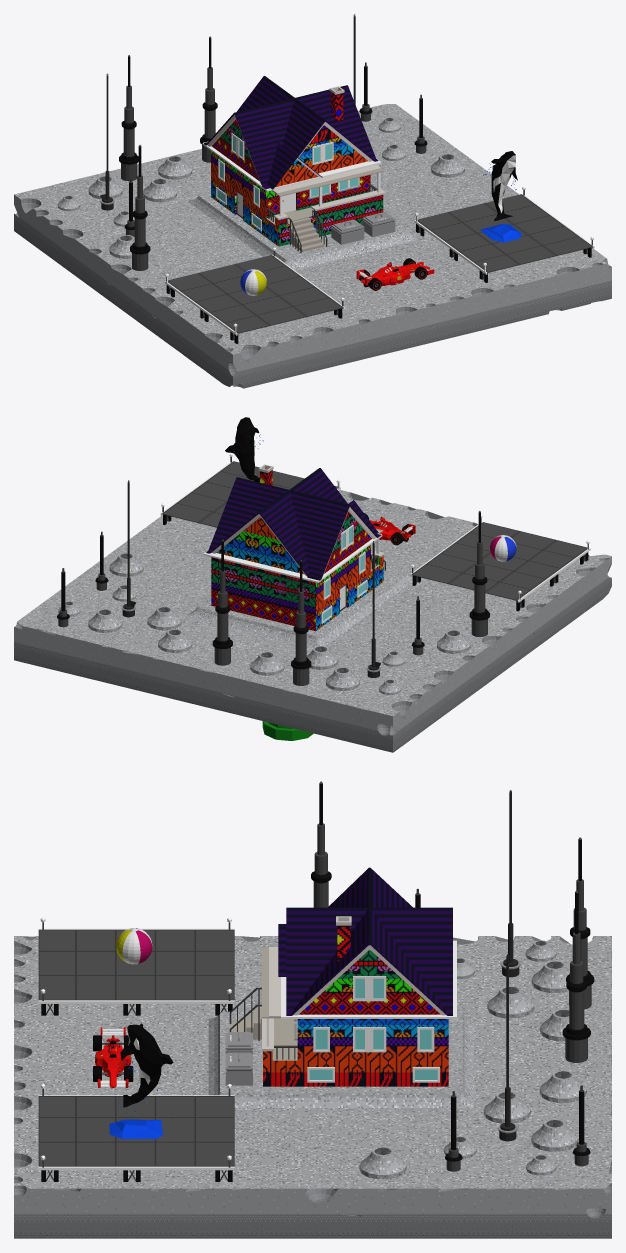
3 views of the same model, one above another, from view 1: azimuth 30°, elevation 25°; view 2: azimuth 150°, elevation 25°; view 3: azimuth 270°, elevation 25° (orthographic). The views are drawn at different scales.
Parts seen in each view (by area): view 1: Cube.027, Cube.966, Cube.025, Cube.026, Cube.028, ANIMAL_ORCA, Cylinder.021, VEHICLES_FORMULA_1, Cylinder.020, Cylinder.017, Cube.029, Cube.030 (+6 smaller); view 2: Cube.027, Cube.966, Cube.025, Cube.028, Cube.026, Cylinder.017, Cylinder.020, Cylinder.021, ANIMAL_ORCA, VEHICLES_FORMULA_1, Cylinder.030, Cylinder.027 (+10 smaller); view 3: Cube.027, Cube.966, Cube.025, Cube.026, Cube.028, ANIMAL_ORCA, Cylinder.017, VEHICLES_FORMULA_1, Cylinder.020, Cylinder.021, Cylinder.033, Cylinder.031 (+11 smaller).
Boxes of the visible parts, <box> form: Cube.027: <box>14,104,611,388</box>; Cube.966: <box>202,76,385,252</box>; Cube.025: <box>164,247,344,343</box>; Cube.026: <box>414,186,594,282</box>; Cube.028: <box>188,192,418,269</box>; ANIMAL_ORCA: <box>480,151,521,242</box>; Cylinder.021: <box>130,145,150,270</box>; VEHICLES_FORMULA_1: <box>356,258,434,290</box>; Cylinder.020: <box>119,55,138,181</box>; Cylinder.017: <box>200,36,217,162</box>; Cube.029: <box>331,219,364,244</box>; Cube.030: <box>362,212,395,237</box>; Cube.027: <box>14,490,611,752</box>; Cube.966: <box>203,464,385,631</box>; Cube.025: <box>410,514,590,611</box>; Cube.028: <box>187,566,412,647</box>; Cube.026: <box>160,453,340,527</box>; Cylinder.017: <box>212,539,232,665</box>; Cylinder.020: <box>291,559,311,685</box>; Cylinder.021: <box>469,511,489,636</box>; ANIMAL_ORCA: <box>225,417,263,482</box>; VEHICLES_FORMULA_1: <box>364,513,415,545</box>; Cylinder.030: <box>147,606,181,630</box>; Cylinder.027: <box>250,651,284,675</box>; Cube.027: <box>14,936,611,1238</box>; Cube.966: <box>229,867,456,1086</box>; Cube.025: <box>38,917,234,1015</box>; Cube.026: <box>38,1084,234,1181</box>; Cube.028: <box>208,1011,474,1107</box>; ANIMAL_ORCA: <box>109,1023,173,1138</box>; Cylinder.017: <box>562,890,590,1062</box>; VEHICLES_FORMULA_1: <box>93,1027,133,1087</box>; Cylinder.020: <box>566,837,594,1009</box>; Cylinder.021: <box>311,781,331,907</box>; Cylinder.033: <box>359,1146,406,1179</box>; Cylinder.031: <box>531,1119,578,1151</box>.
Size of the model in its own units: 4000 by 2383 by 4000.
39 materials, 8 textured.
